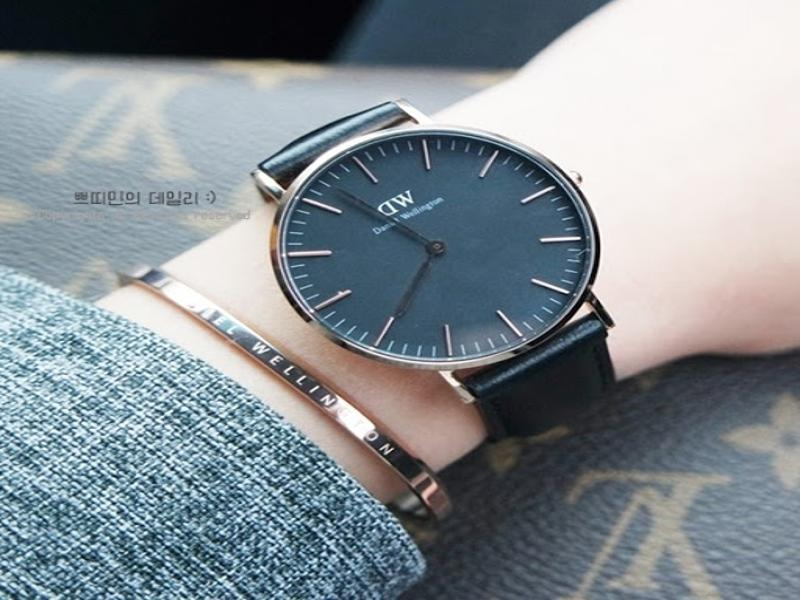watch: (253, 97, 620, 437)
